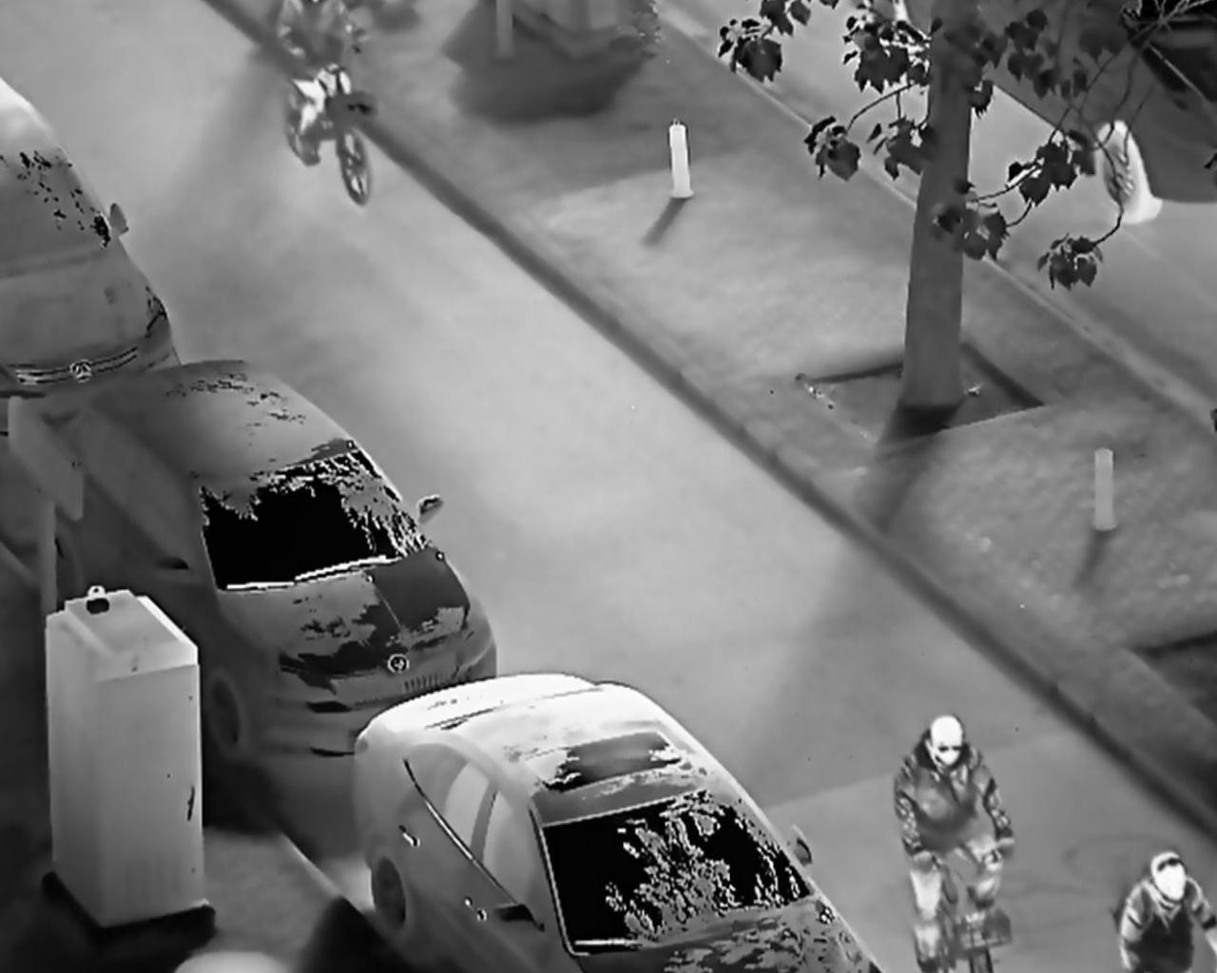person: (889, 709, 1016, 973)
